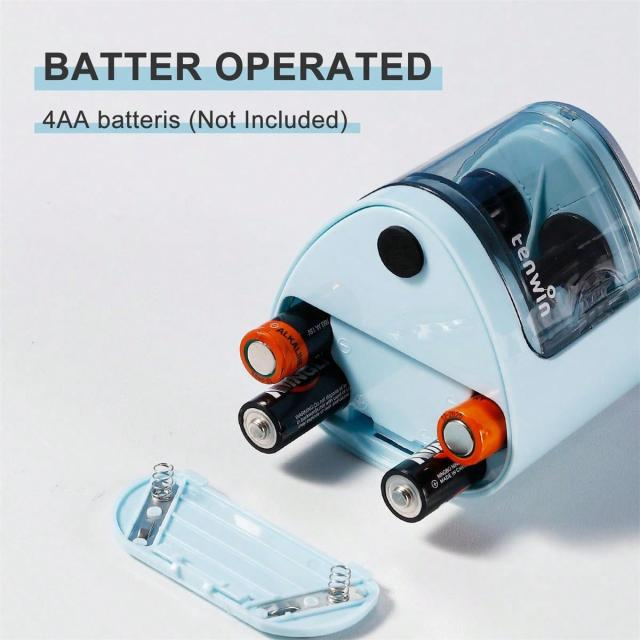pencil_sharpener: (220, 100, 640, 523)
